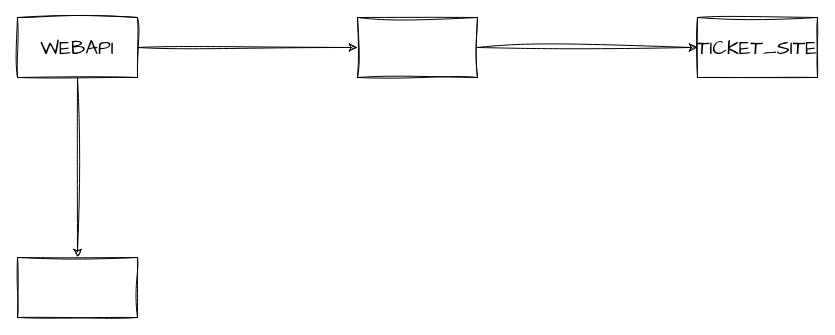
Some shapes in this 835 by 335 pixel diagram are drawn without their labels. The shapes that lost their labels are listed below. From the top down, each one's centre as x and y in pixels, then its label:
At pixel 417 47: "SCRAPER".
At pixel 77 287: "DB".
